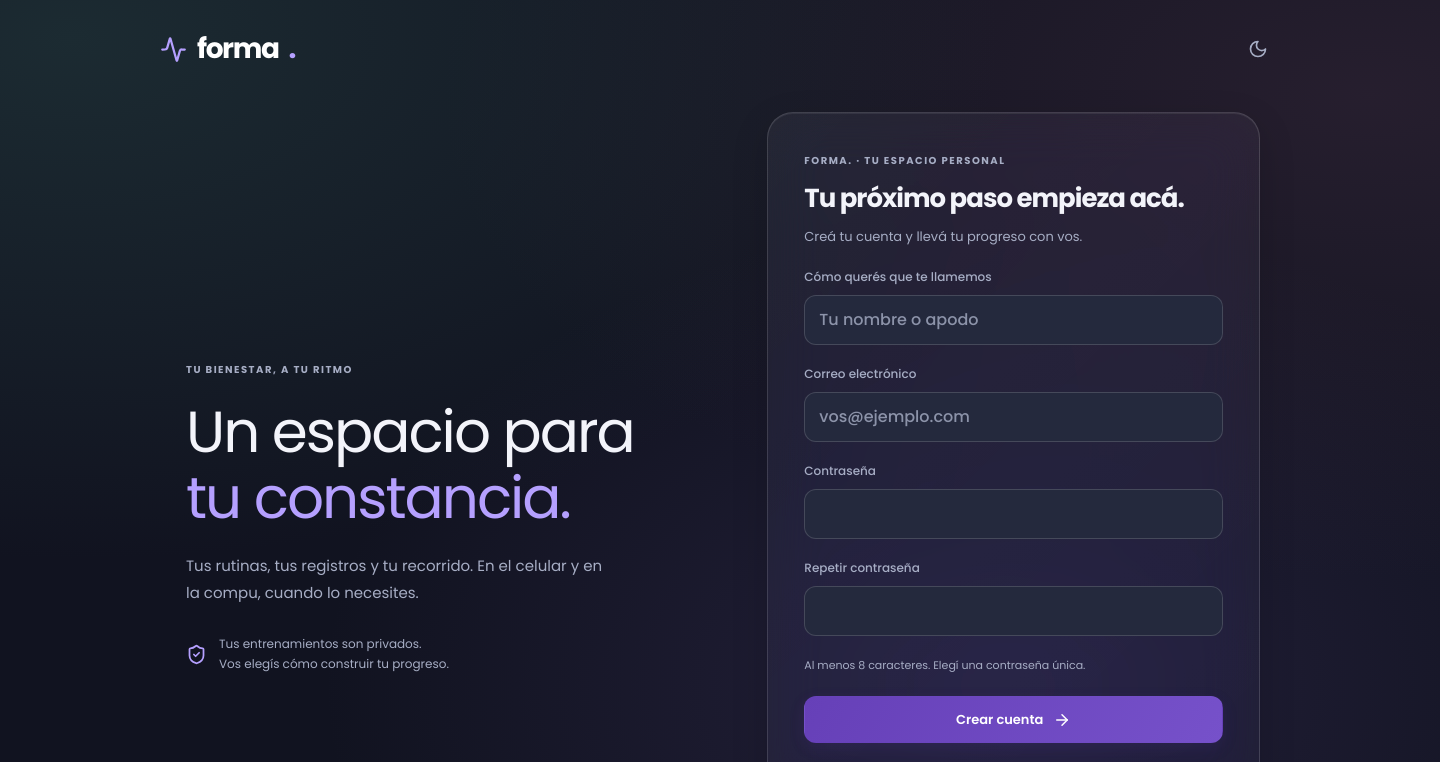
Test: registro valida contraseñas y solicita confirmación por correo sin almacenarlas
In the field labelled "Cómo querés que te llamemos": (1014, 320) [804, 295, 1223, 345], type "Prueba"
In the field labelled "Correo electrónico": (1014, 417) [804, 392, 1223, 442], type "prueba@example.invalid"
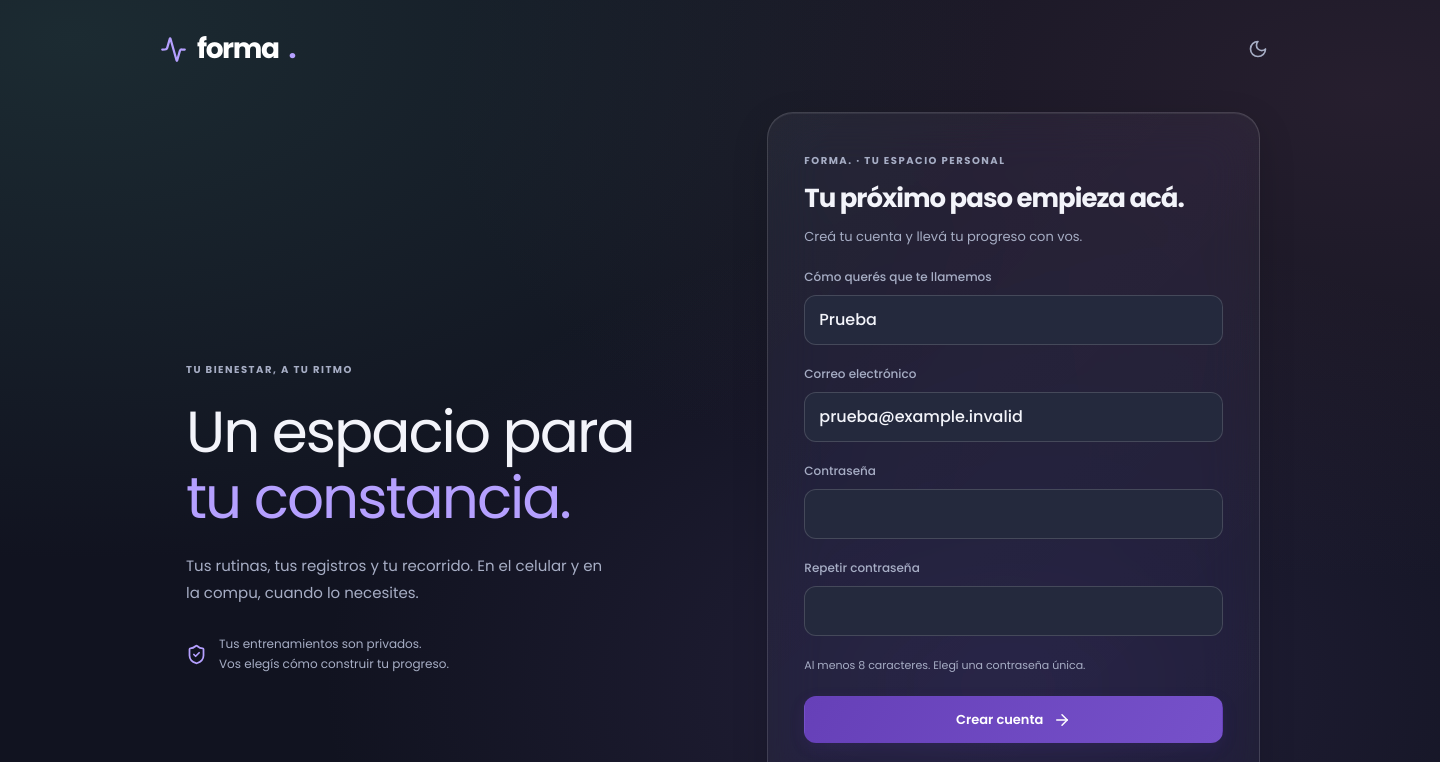
In the password field labelled "Contraseña": (1014, 514) [804, 489, 1223, 539], type "contraseña-de-prueba"
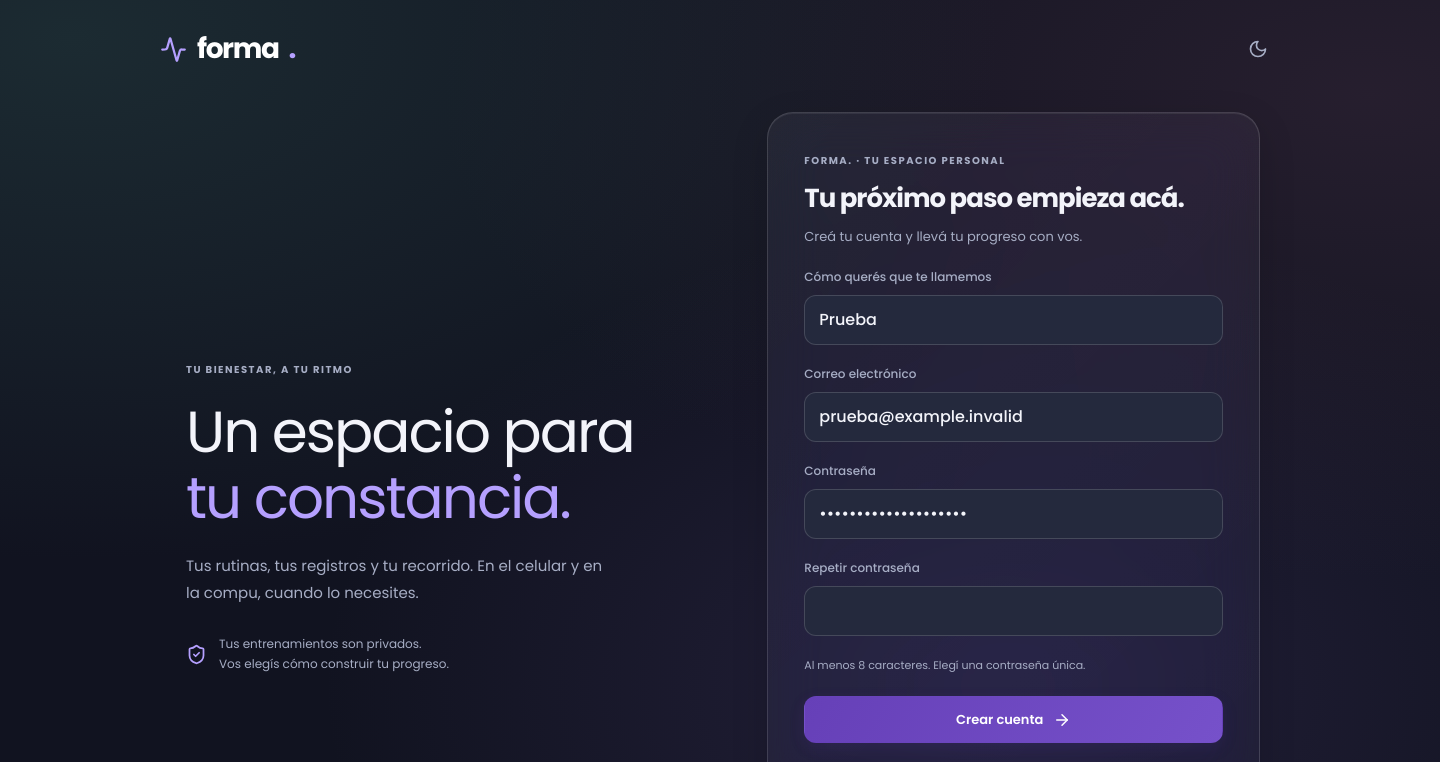
In the password field labelled "Repetir contraseña": (1014, 611) [804, 586, 1223, 636], type "otra-contraseña"
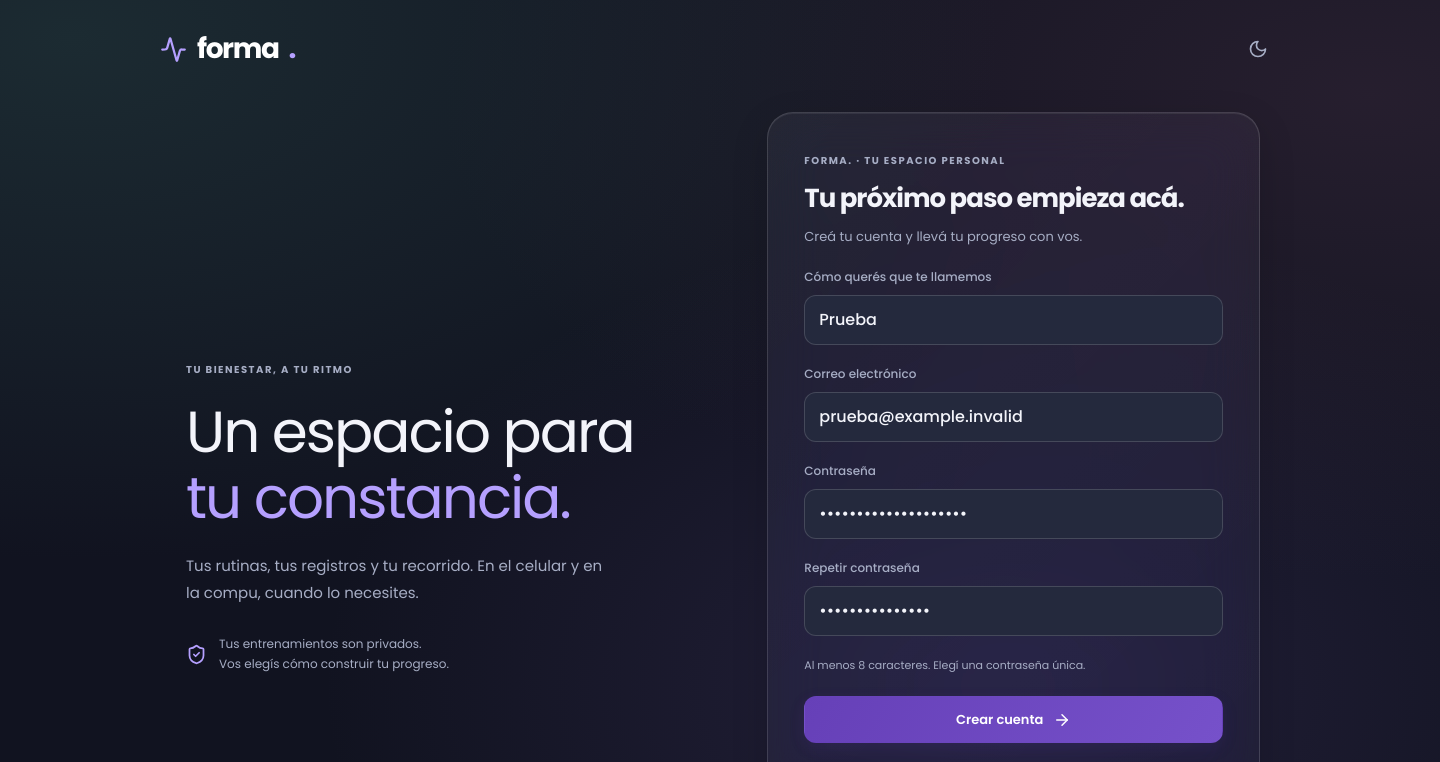
Click the button "Crear cuenta": (1014, 720) [804, 696, 1223, 743]
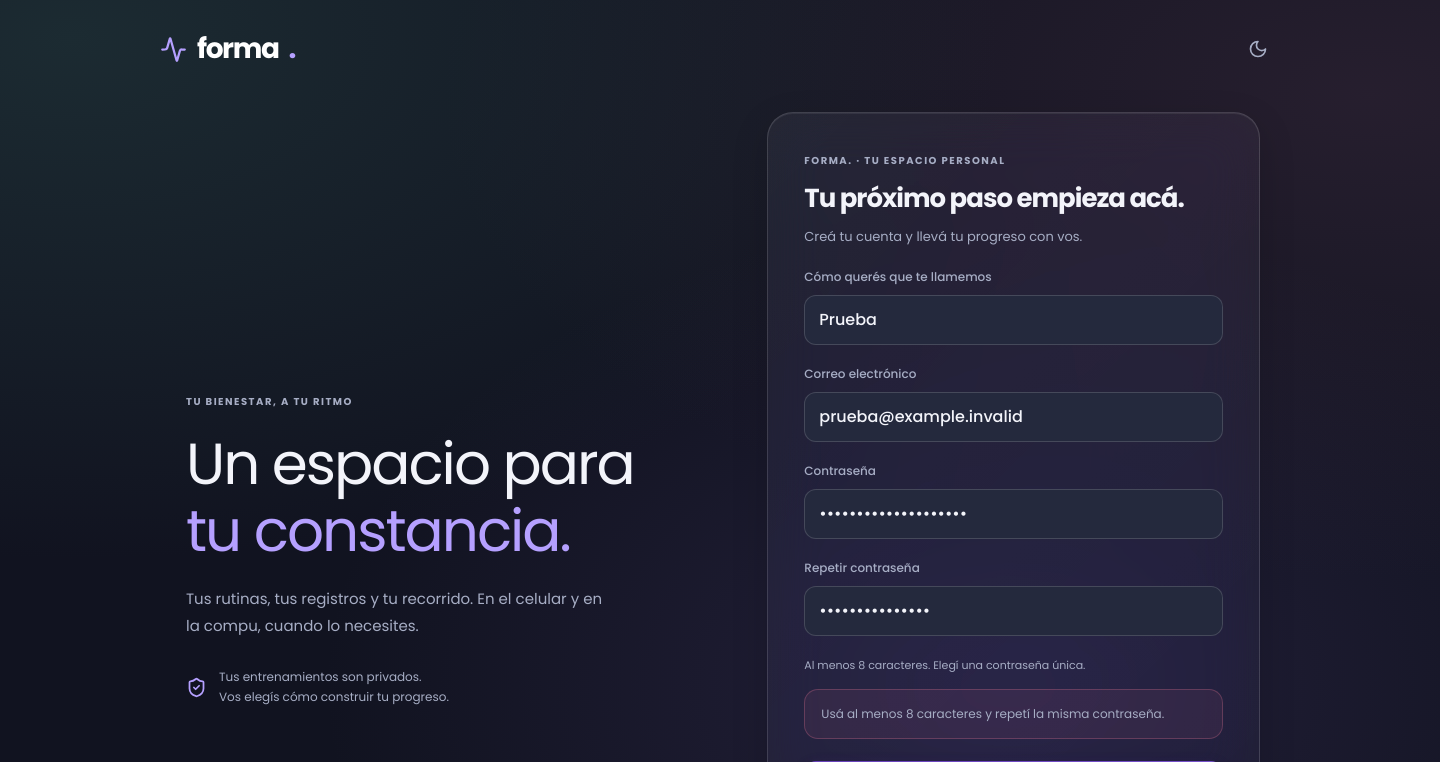
Expected: the message "Usá al menos 8 caracteres y repetí la misma contraseña." is shown, [804, 689, 1223, 739]
In the password field labelled "Repetir contraseña": (1014, 611) [804, 586, 1223, 636], type "contraseña-de-prueba"
(page scrolled)
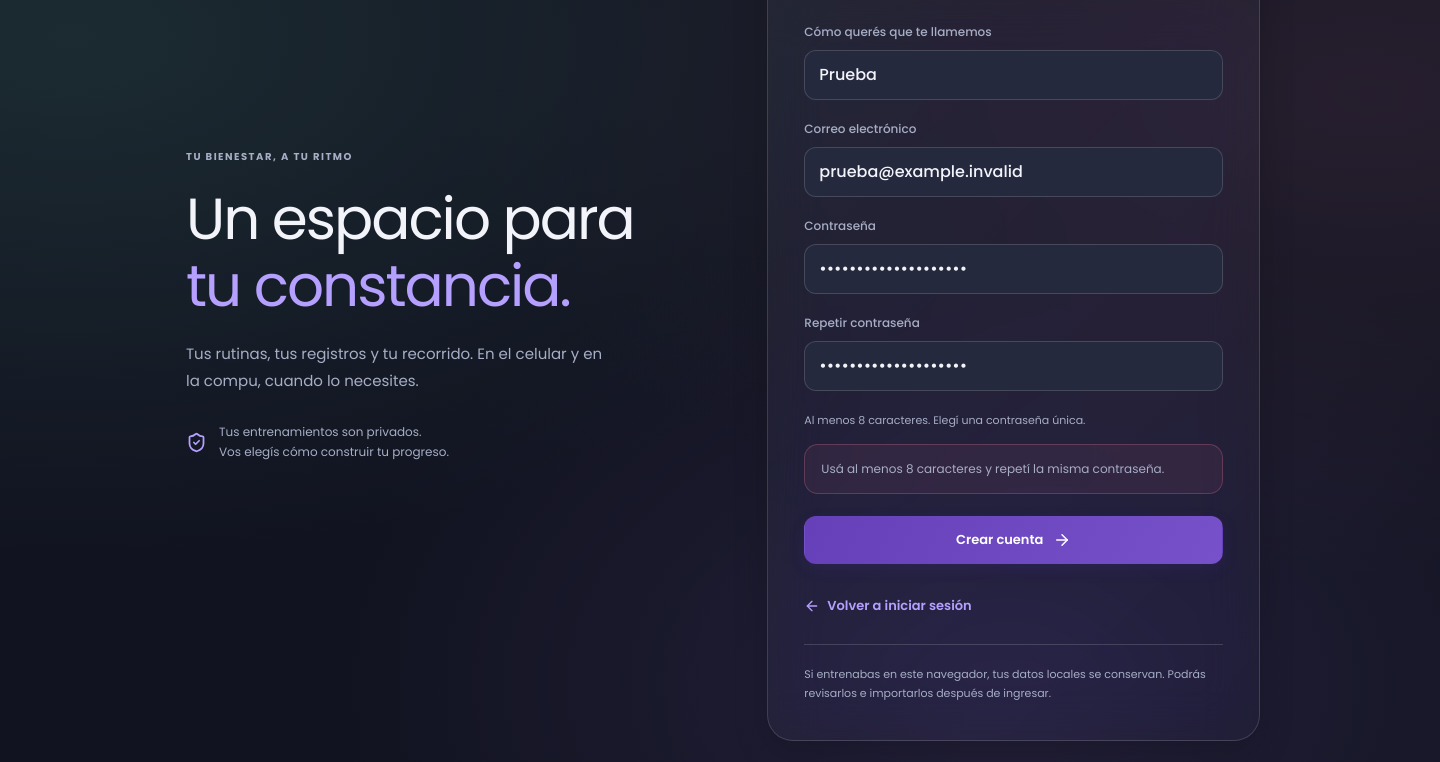
Click the button "Crear cuenta": (1014, 540) [804, 516, 1223, 564]
(page scrolled)
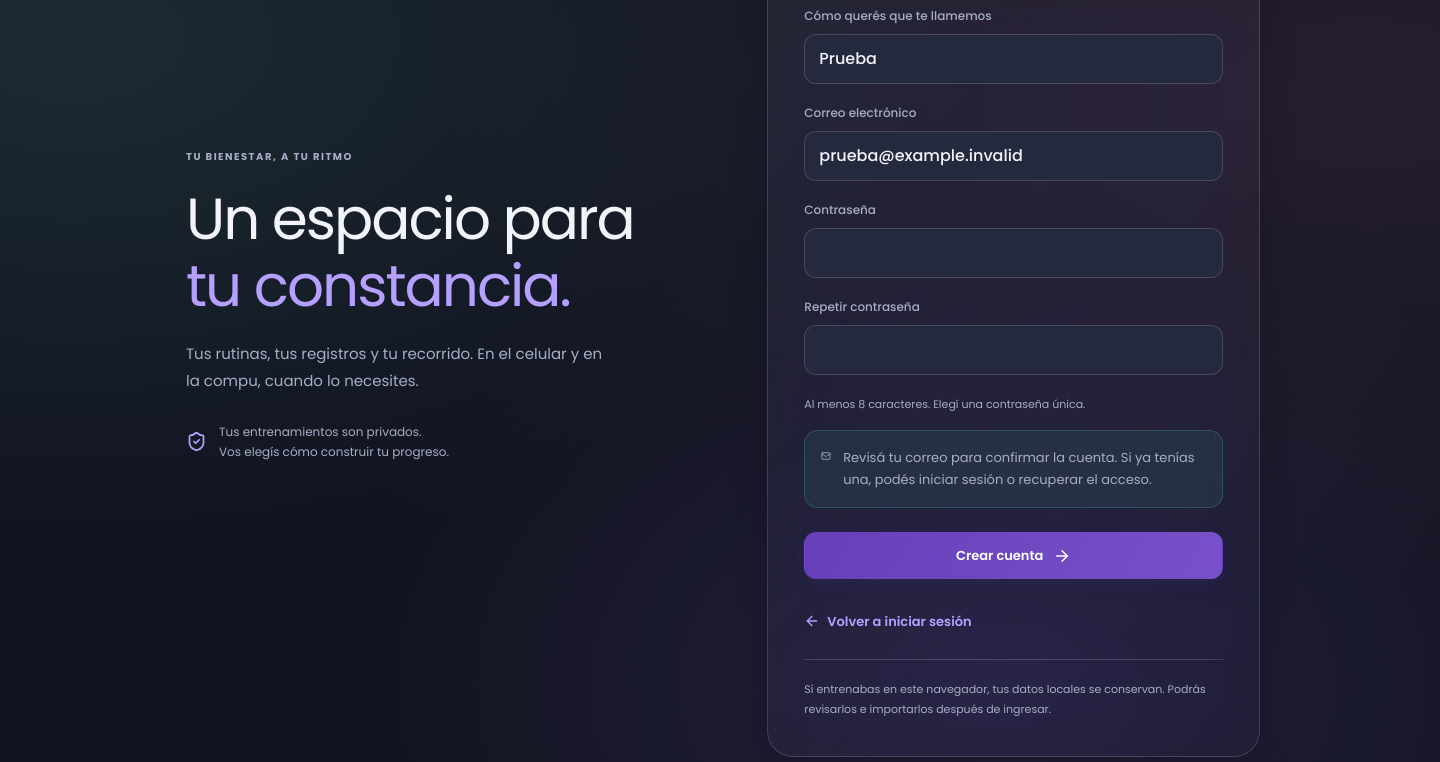
Expected: the text "Revisá tu correo para confirmar" is shown, [843, 448, 1195, 489]
